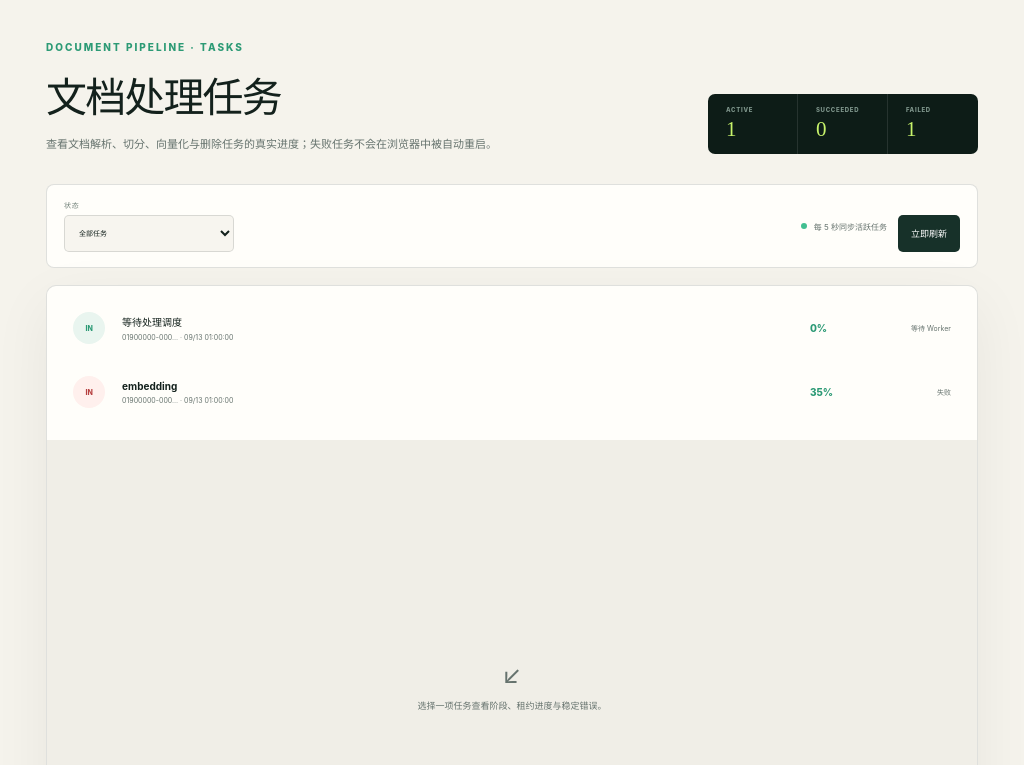
ingestion task monitoring › shows stable progress and sanitized failure details
Check: the element with test id "job-list" shows "等待 Worker", box top-left (60, 299), bottom-right (964, 357)
Click the button "IN embedding 01900000-000… · 09/13 01:00:00 35% 失败": (89, 392) top-left (60, 363), bottom-right (964, 421)
(page scrolled)
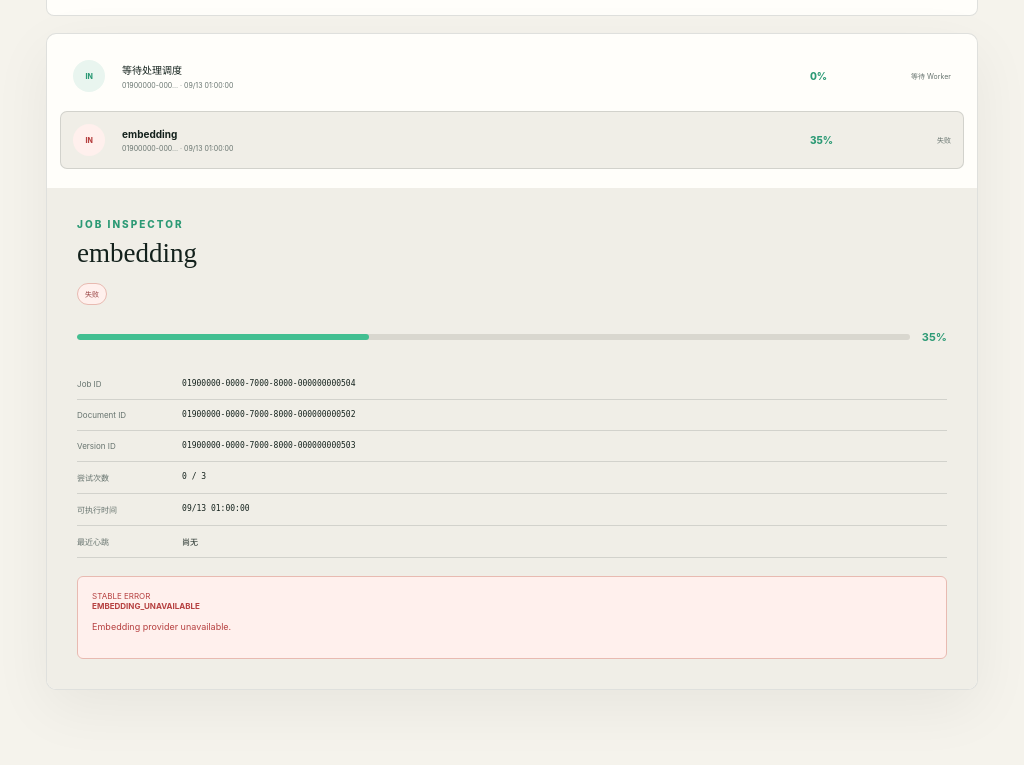
Check: the element with class "job-detail" shows "EMBEDDING_UNAVAILABLE", box top-left (92, 601), bottom-right (200, 611)
Check: the element with class "job-detail" shows "35%", box top-left (922, 330), bottom-right (947, 344)
